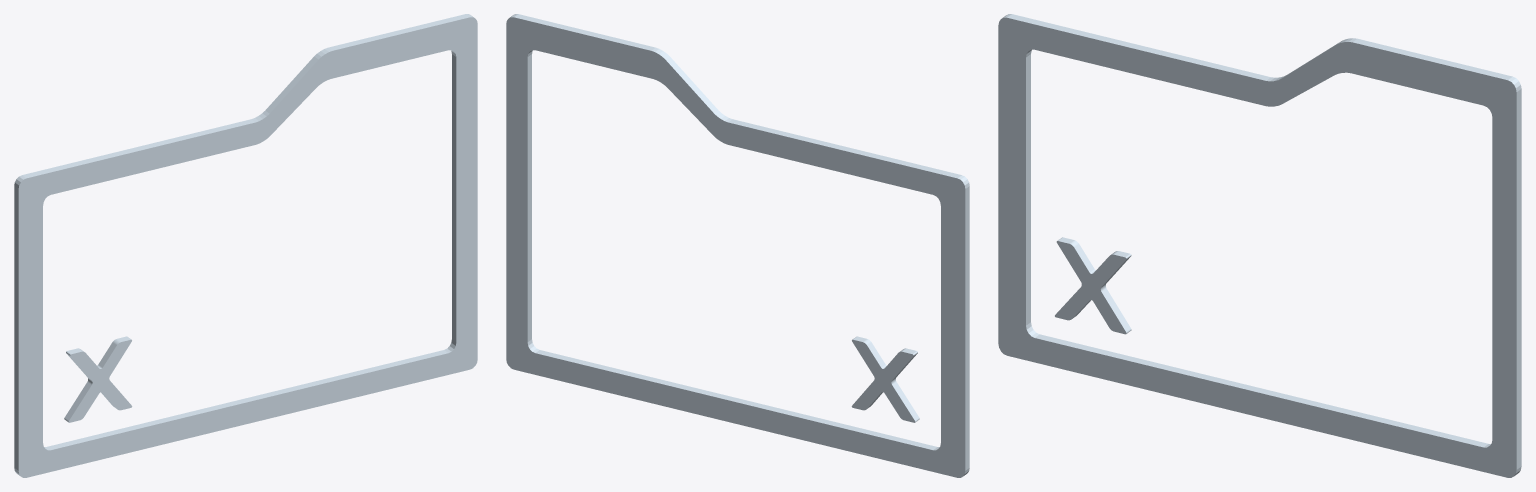
File: Folder_Delete_3D_Icon.fbx
The picture shows the model from 3 angles, left to right: view 1: azimuth 30°, elevation 25°; view 2: azimuth 150°, elevation 25°; view 3: azimuth 330°, elevation 25°; orthographic projection. The views are drawn at different scales.
Visible parts, largest first — view 1: Folder_Delete_3D_Icon; view 2: Folder_Delete_3D_Icon; view 3: Folder_Delete_3D_Icon.
Part boxes in pixels (box(x1,y1,x2,y2)): Folder_Delete_3D_Icon: box(14, 14, 477, 477); Folder_Delete_3D_Icon: box(506, 14, 969, 477); Folder_Delete_3D_Icon: box(998, 14, 1521, 477).
Size of the model in its own units: 119 by 87.12 by 2.
